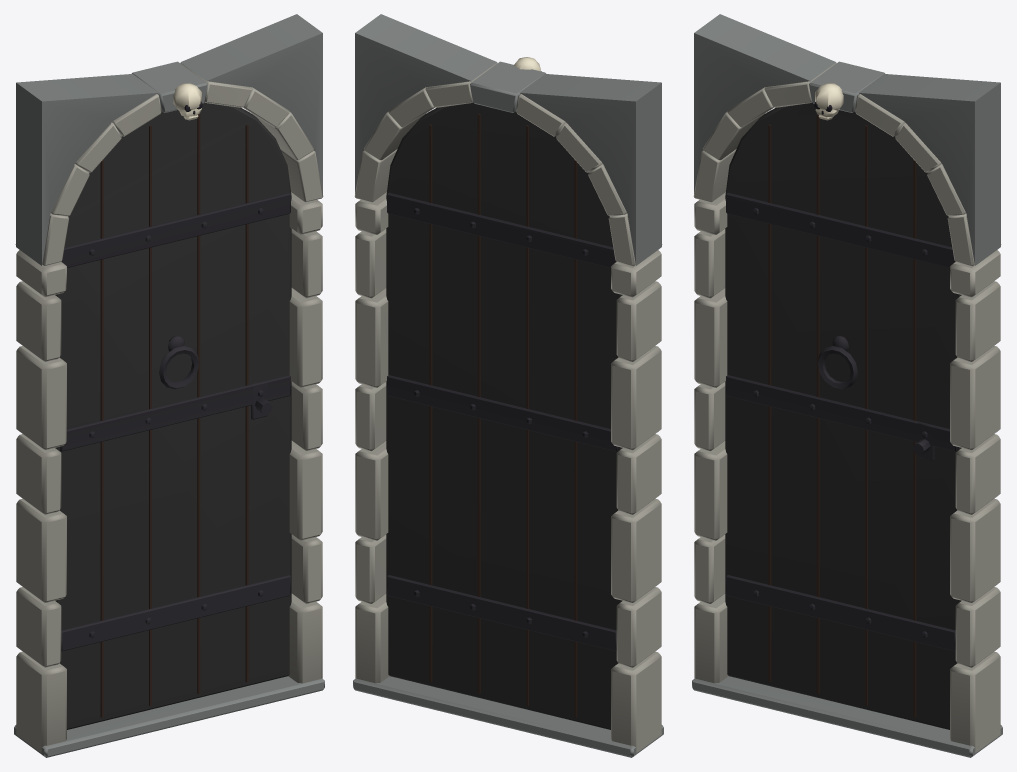
The model's file is door_crypt.glb.
3 views of the same model, side by side, from view 1: azimuth 30°, elevation 25°; view 2: azimuth 150°, elevation 25°; view 3: azimuth 330°, elevation 25° (orthographic).
Visible parts, largest first — view 1: door_leaf, door_crypt; view 2: door_leaf, door_crypt; view 3: door_leaf, door_crypt.
Part boxes in pixels (x1,y1,x2,y2): door_leaf: (55, 102, 291, 729); door_crypt: (14, 14, 324, 757); door_leaf: (386, 102, 622, 729); door_crypt: (353, 14, 663, 757); door_leaf: (725, 102, 961, 729); door_crypt: (692, 14, 1002, 757).
Bounding box in the file's own units: 1 × 2.23 × 0.2558.
